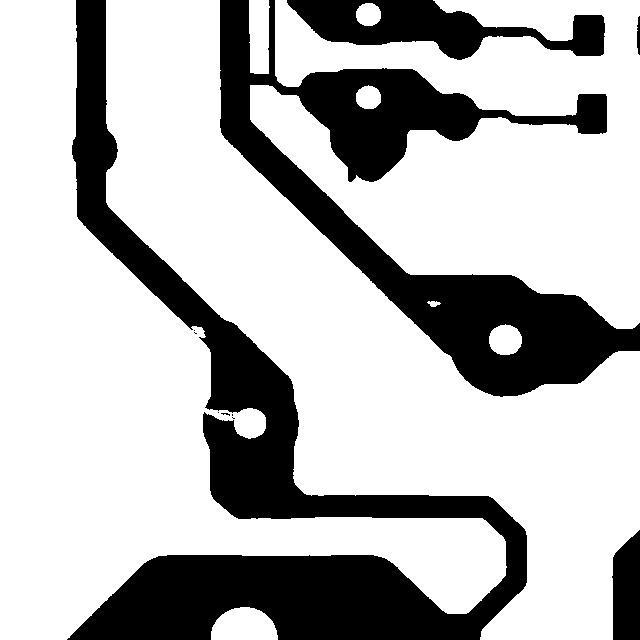mousebite: (180, 316, 215, 347)
open: (180, 396, 249, 430)
pin-hole: (417, 291, 450, 316)
short: (235, 63, 286, 95)
spur: (338, 152, 365, 191)
